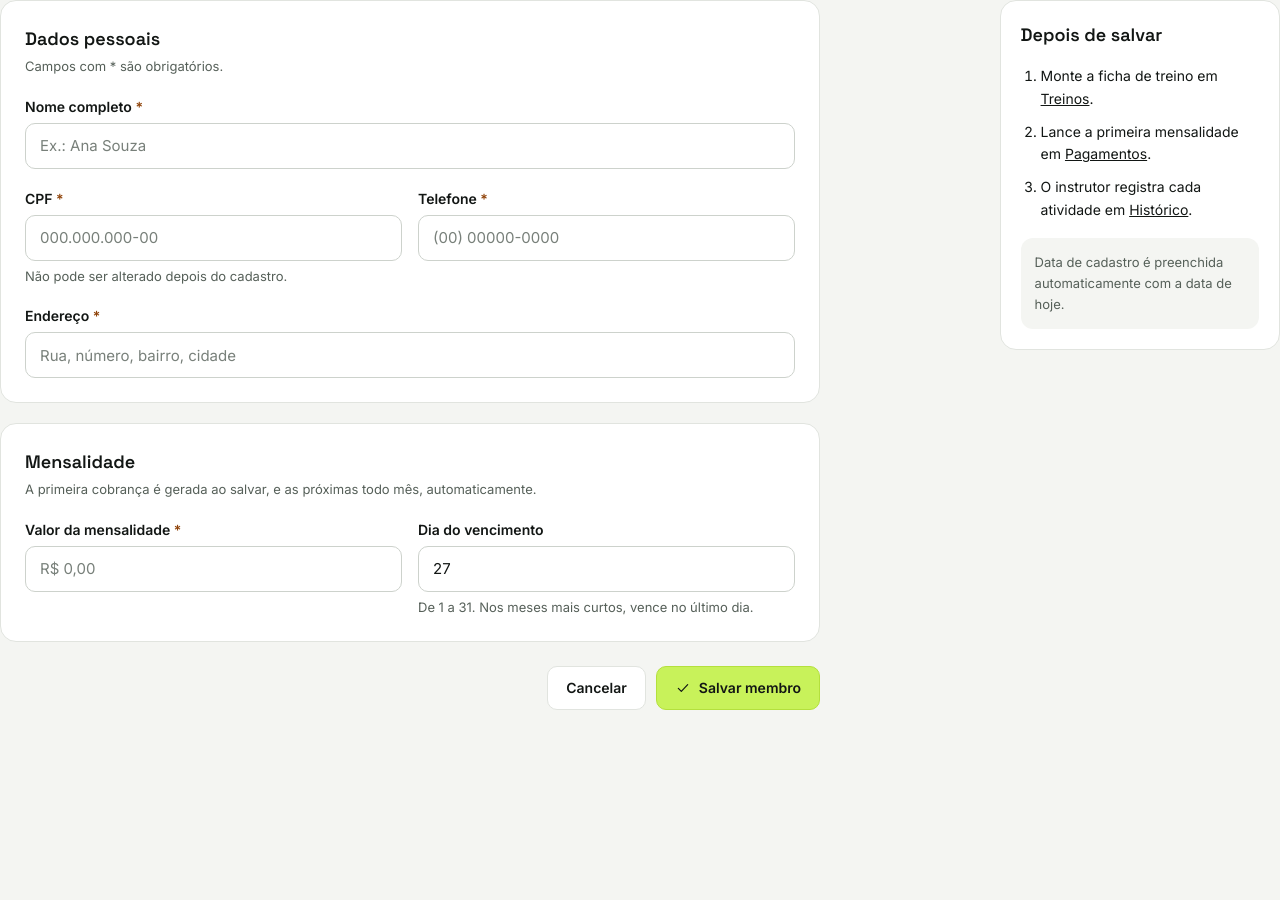
Test: NovoMembro › não vai para a lista quando a API recusa
The image size is (1280, 900).
Type "Ana Souza" into the field labelled "Nome completo" at (410, 146), box [25, 122, 795, 168]
Type "52998224725" into the field labelled "CPF" at (214, 238), box [25, 214, 402, 260]
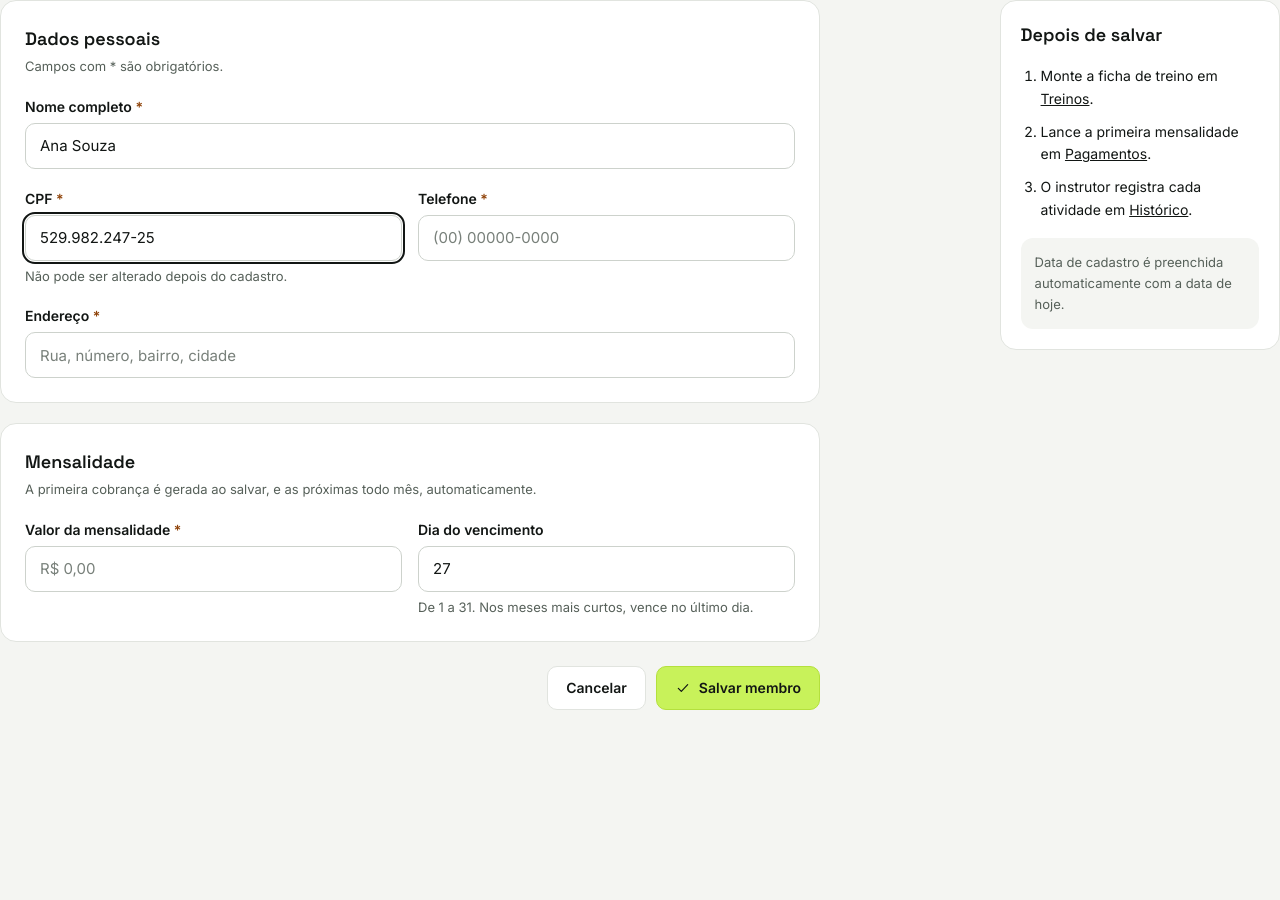
Type "48999990000" into the field labelled "Telefone" at (606, 238), box [418, 214, 795, 260]
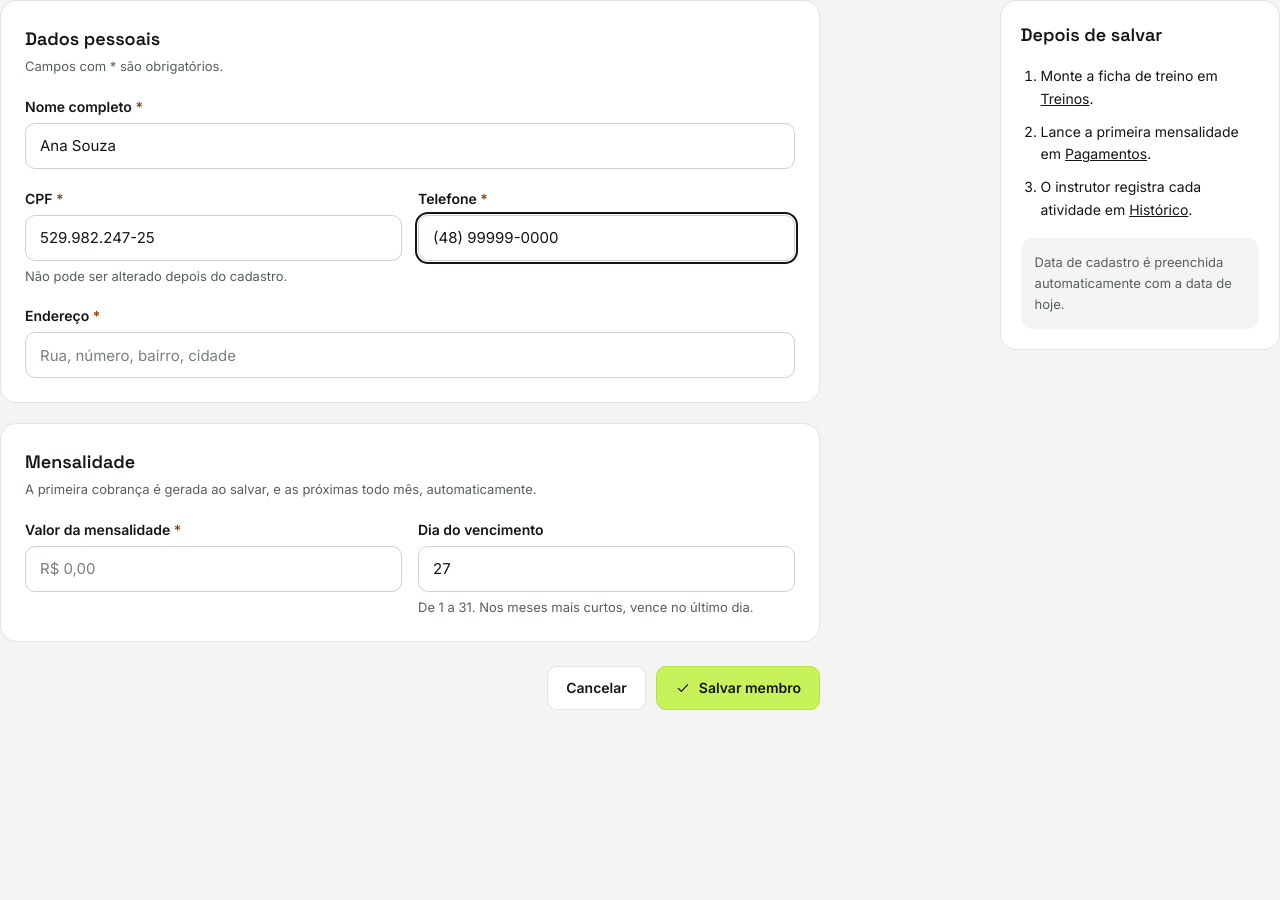
Type "Rua Fictícia, 100" into the field labelled "Endereço" at (410, 355), box [25, 332, 795, 378]
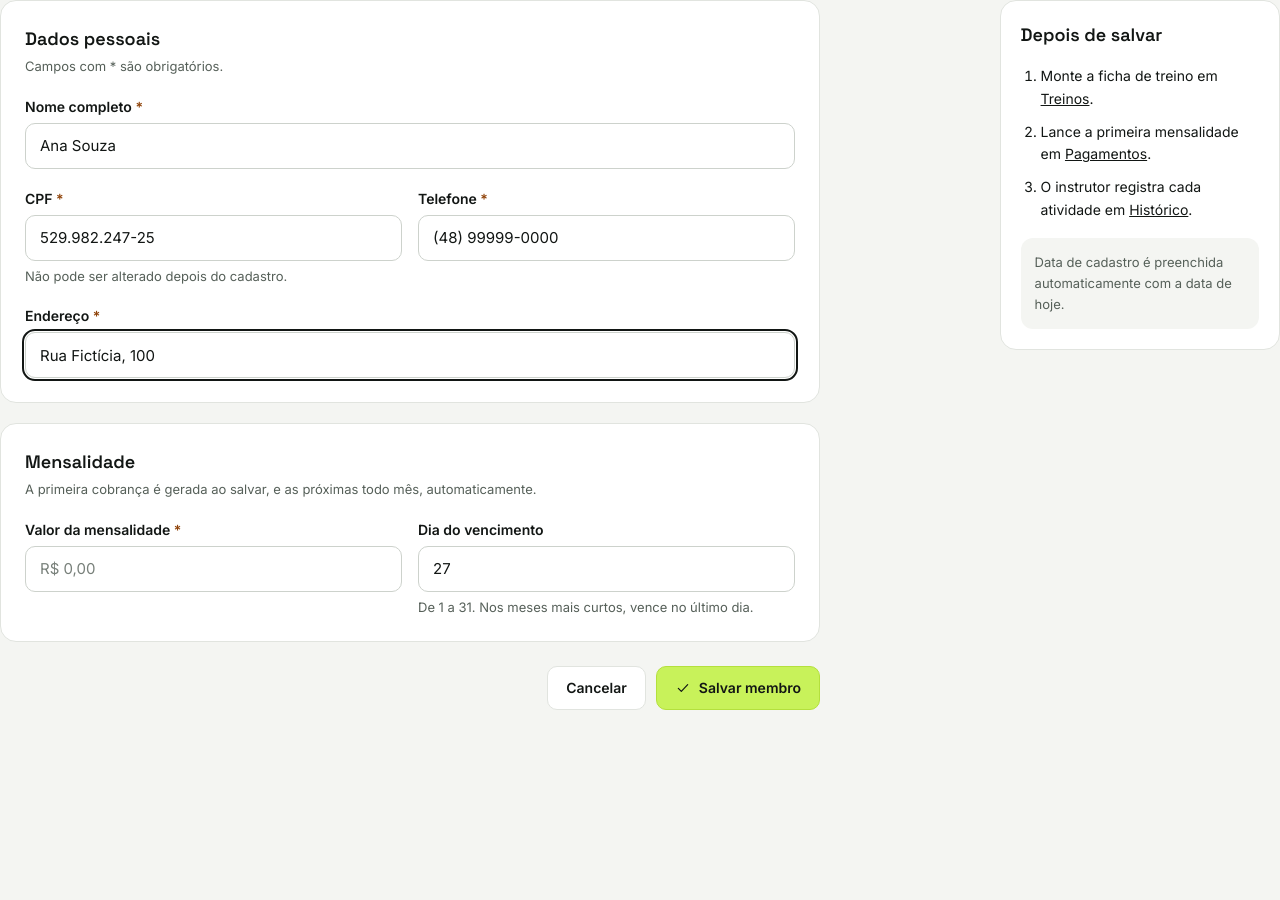
Type "12000" into the field labelled "Valor da mensalidade" at (214, 568), box [25, 546, 402, 592]
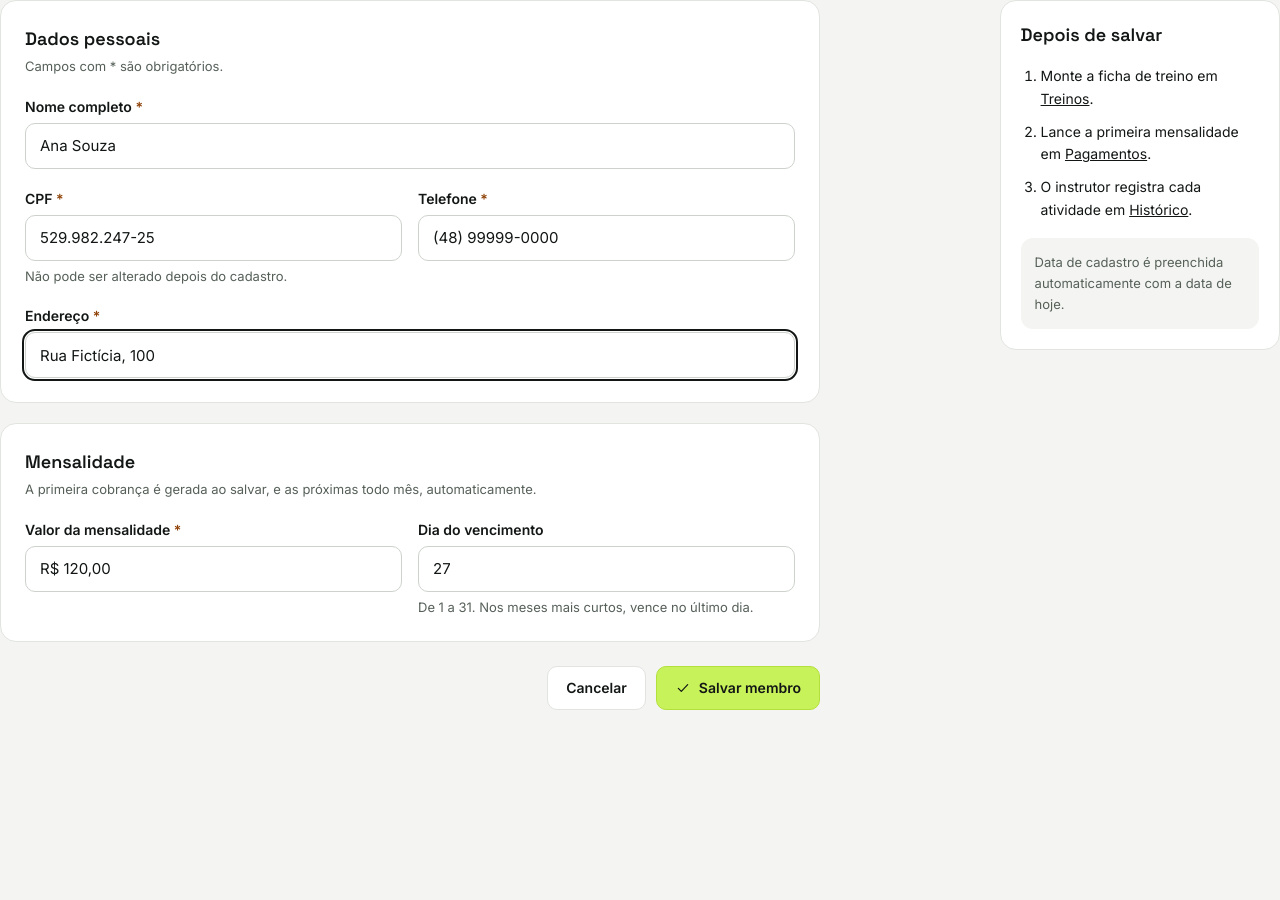
Replace the text in the number field labelled "Dia do vencimento" with "10" at (606, 568), box [418, 546, 795, 592]
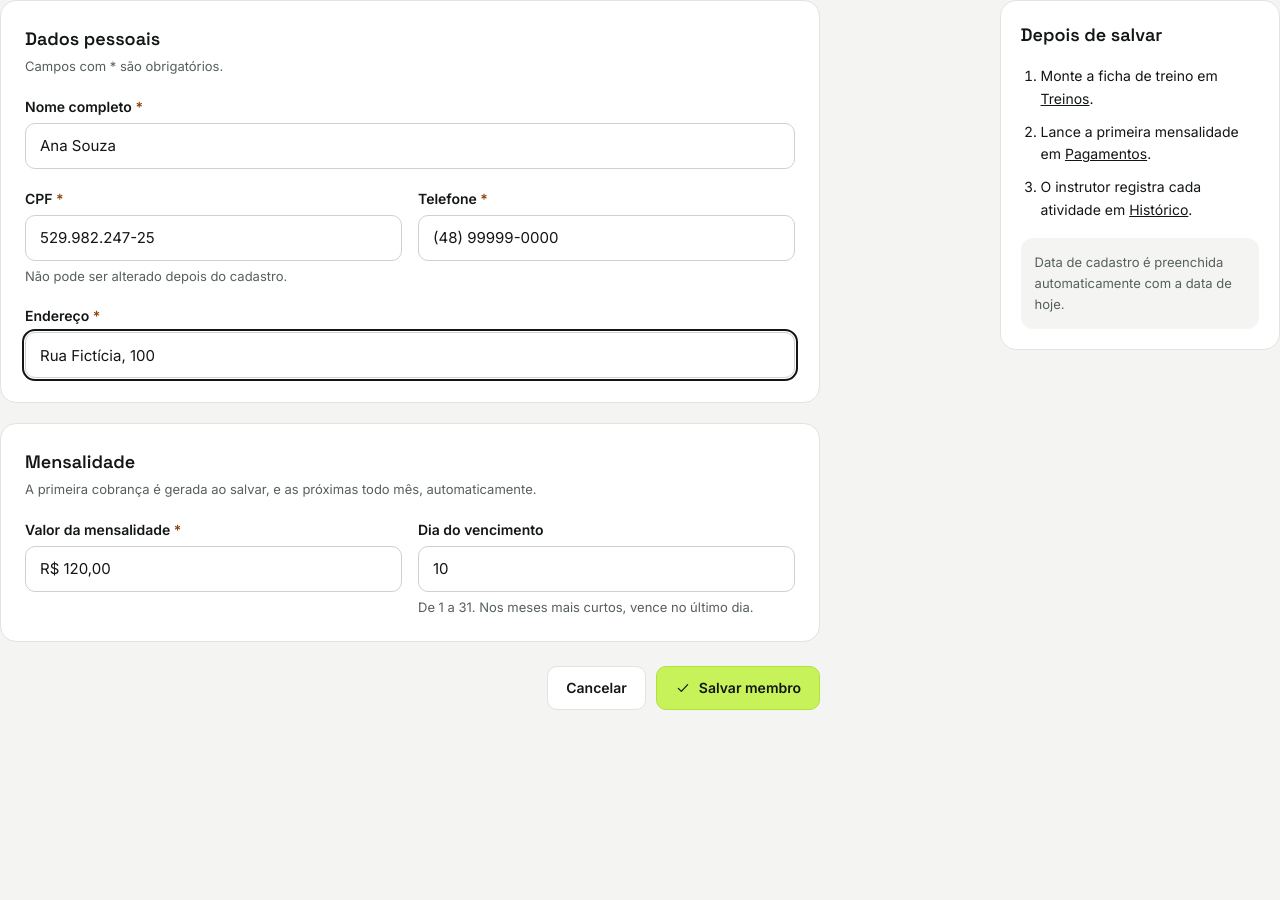
Click the button "Salvar membro" at (738, 688), box [656, 666, 820, 710]
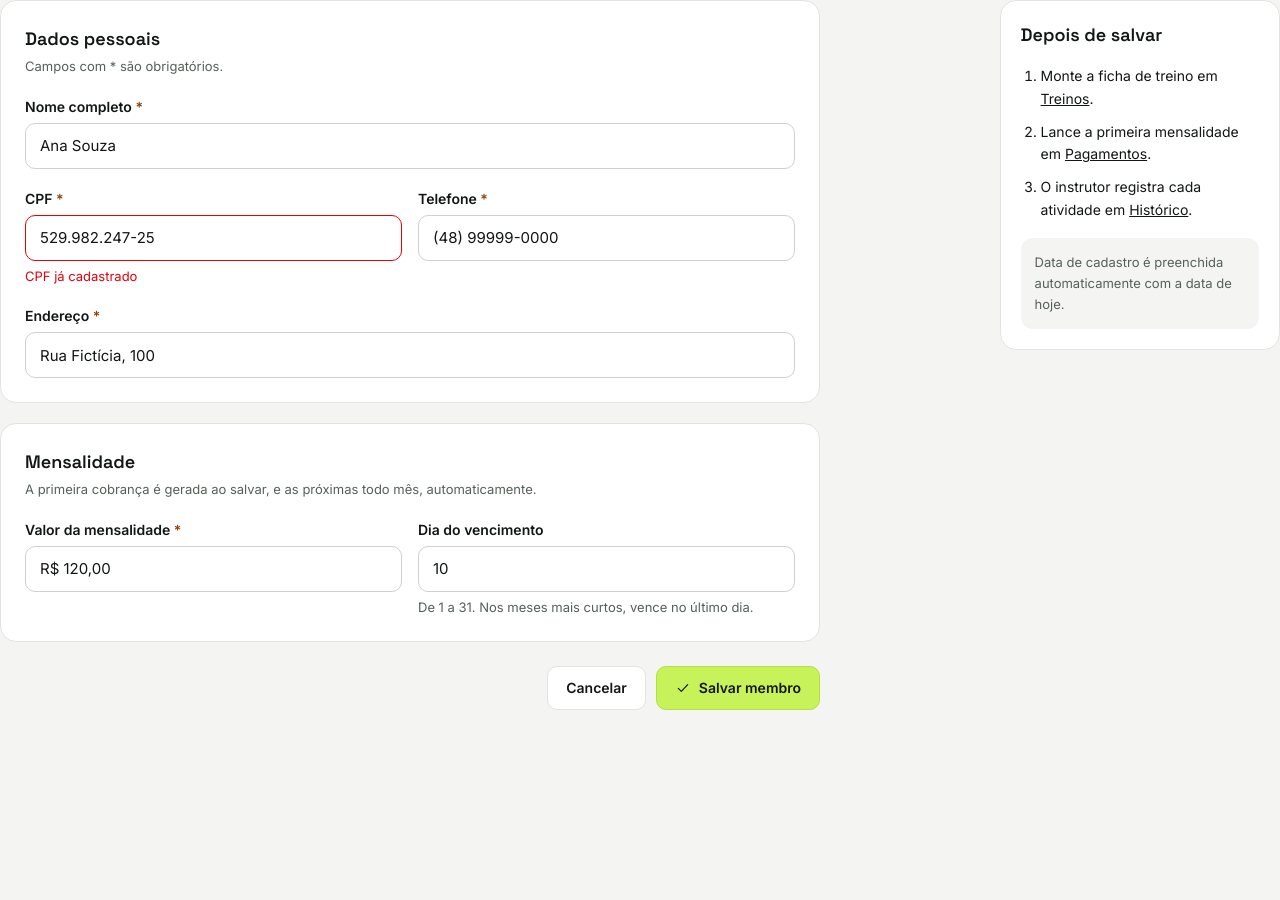
Check: the text "CPF já cadastrado" is shown, box [25, 268, 137, 284]
